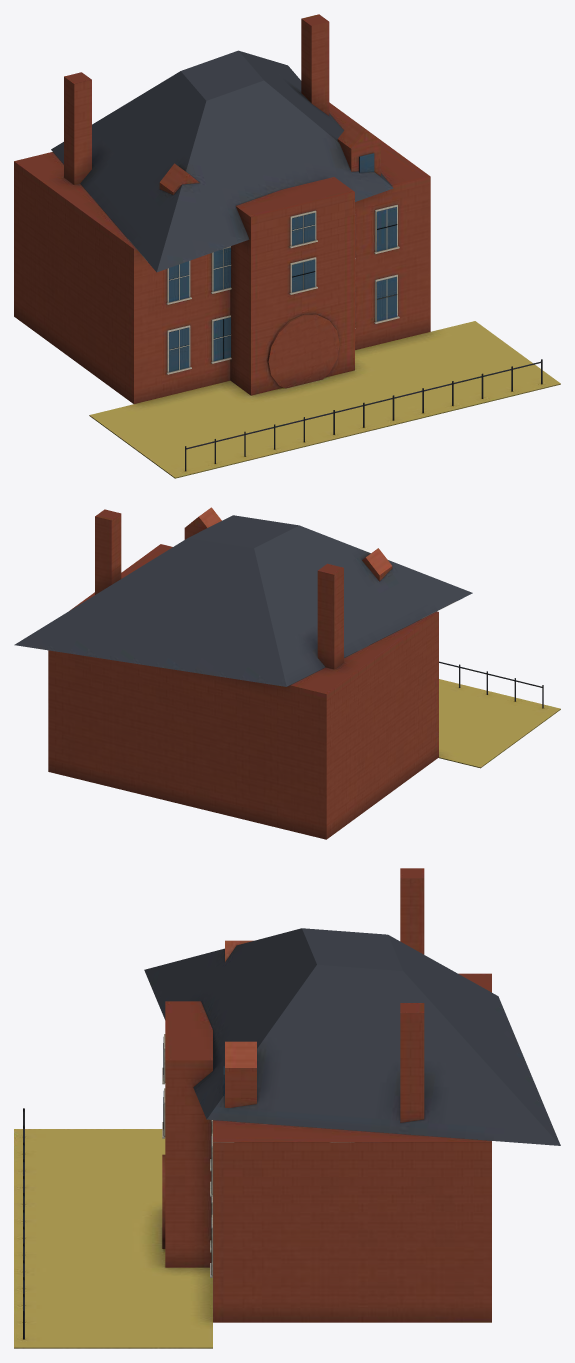
The model's file is moss_mansion.glb.
3 views of the same model, one above another, from view 1: azimuth 30°, elevation 25°; view 2: azimuth 150°, elevation 25°; view 3: azimuth 270°, elevation 25° (orthographic). The views are drawn at different scales.
Parts seen in each view (by area): view 1: moss_mansion; view 2: moss_mansion; view 3: moss_mansion.
Boxes of the visible parts, x1,y1,x2,y2 form: moss_mansion: (14, 14, 560, 478); moss_mansion: (14, 507, 560, 839); moss_mansion: (14, 868, 560, 1348).
Bounding box in the file's own units: 26 × 16.9 × 27.47.
1 material, 1 textured.
